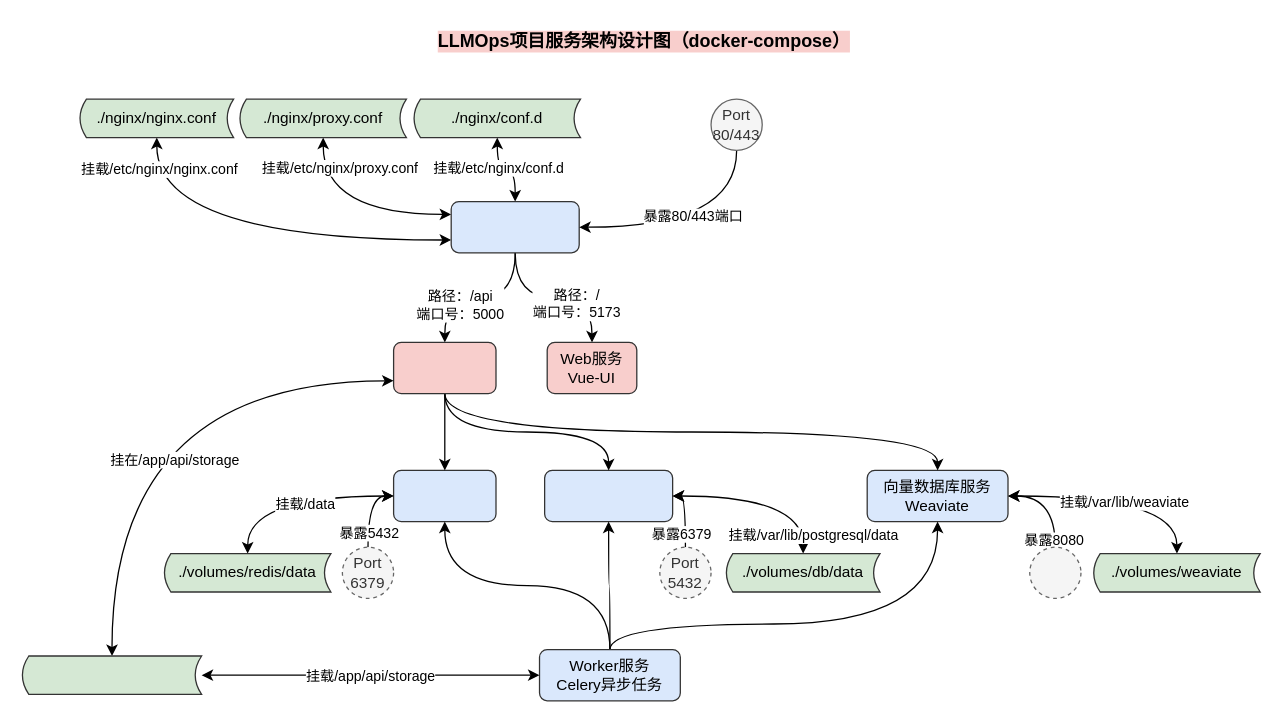
This 1283x723 diagram has some shape labels left out. Each missing label, with the box of its shape:
./volumes/app/storage: (21, 655, 202, 694)
API服务 Flask-API: (392, 341, 496, 394)
DB数据库服务 Postgres: (543, 469, 673, 522)
Port 8080: (1028, 546, 1081, 598)
反向代理服务 Nginx: (450, 200, 579, 253)
缓存服务 Redis: (392, 469, 496, 522)
